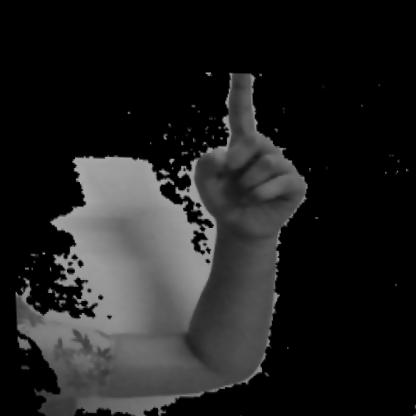one: (115, 64, 349, 371)
